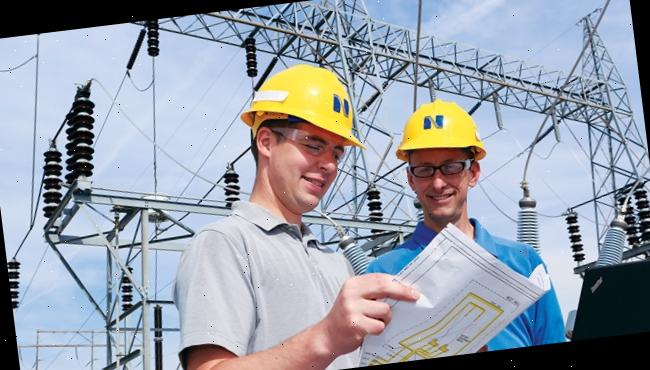helmet: (232, 56, 370, 168), (390, 94, 489, 171)
no_wear: (165, 204, 366, 370)
